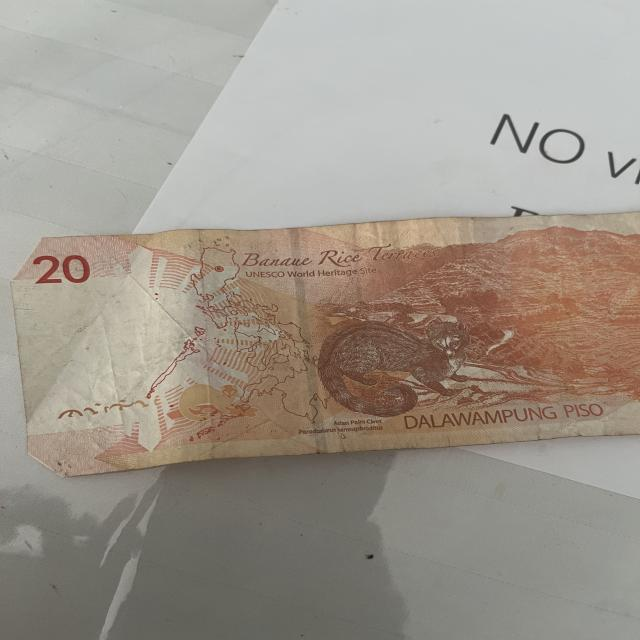20_civet: (316, 314, 469, 418)
20_civet_watermark: (174, 377, 241, 426)
